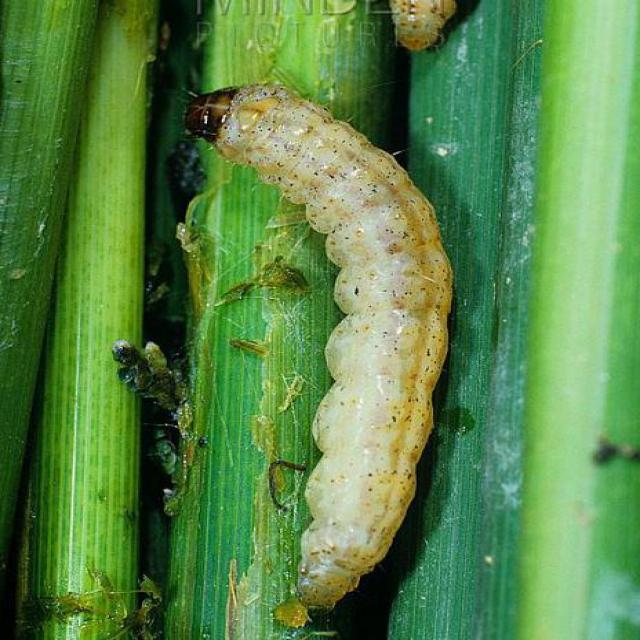yellow-stem-borer-larva: (153, 59, 472, 607)
